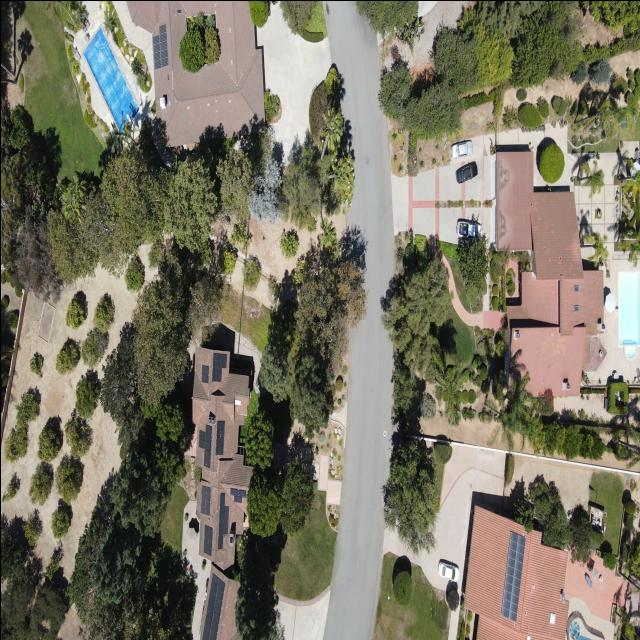solar-panels: (499, 530, 525, 621), (201, 572, 226, 640), (150, 23, 168, 69), (217, 491, 229, 549), (196, 423, 211, 467), (210, 351, 226, 382), (199, 485, 210, 515), (202, 523, 212, 555), (215, 419, 224, 454), (228, 487, 246, 502), (200, 364, 208, 383)
